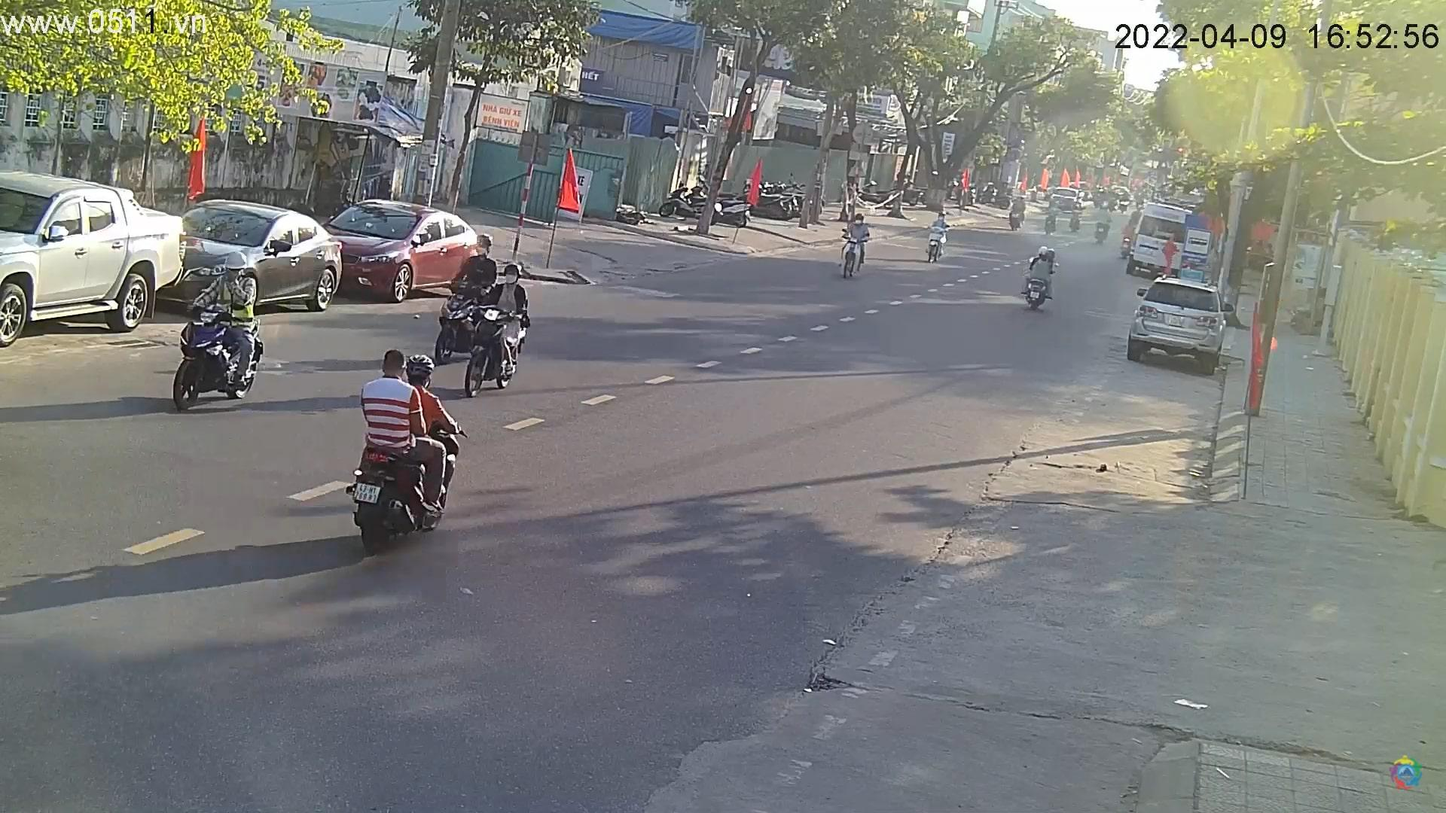car: (2, 170, 187, 351), (180, 202, 348, 313), (324, 202, 496, 303)
motorbike: (164, 300, 268, 414), (460, 292, 537, 407), (834, 228, 873, 282)
